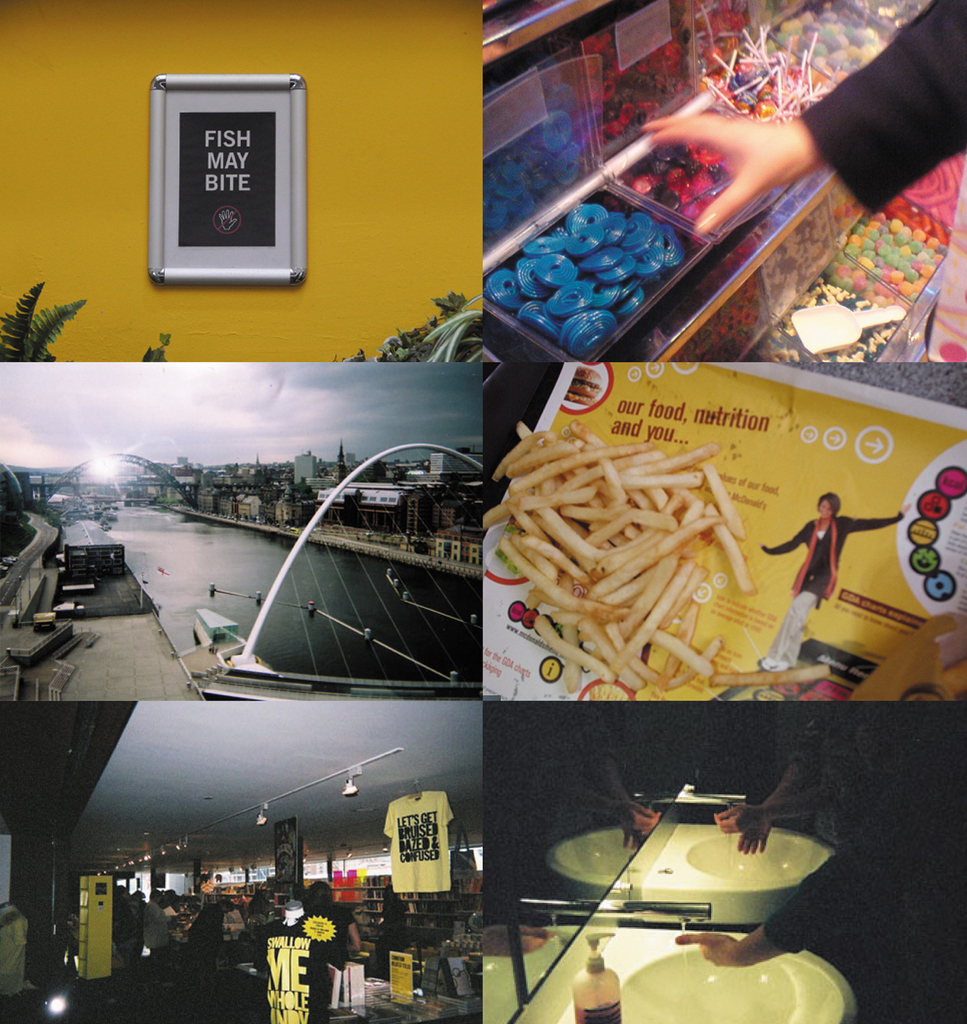French fries: (487, 405, 789, 686)
